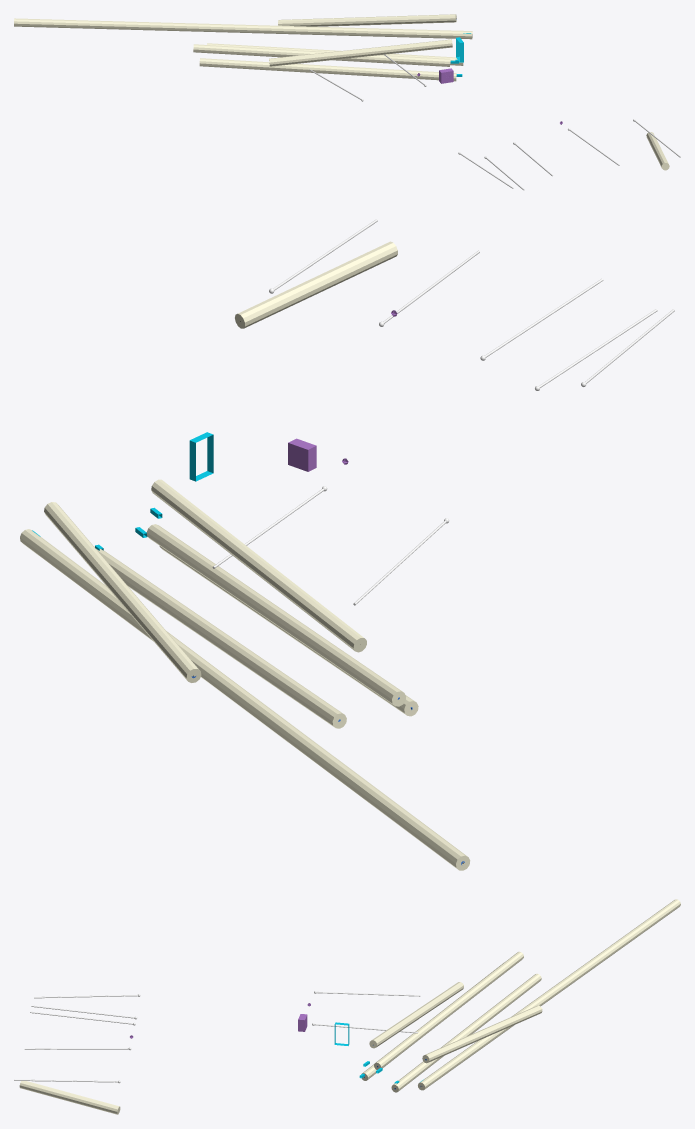
File: tile_387.glb
3 views of the same model, one above another, from view 1: azimuth 30°, elevation 25°; view 2: azimuth 150°, elevation 25°; view 3: azimuth 270°, elevation 25° (orthographic). The views are drawn at different scales.
Size of the model in its own units: 13.28 by 1.69 by 19.01.
